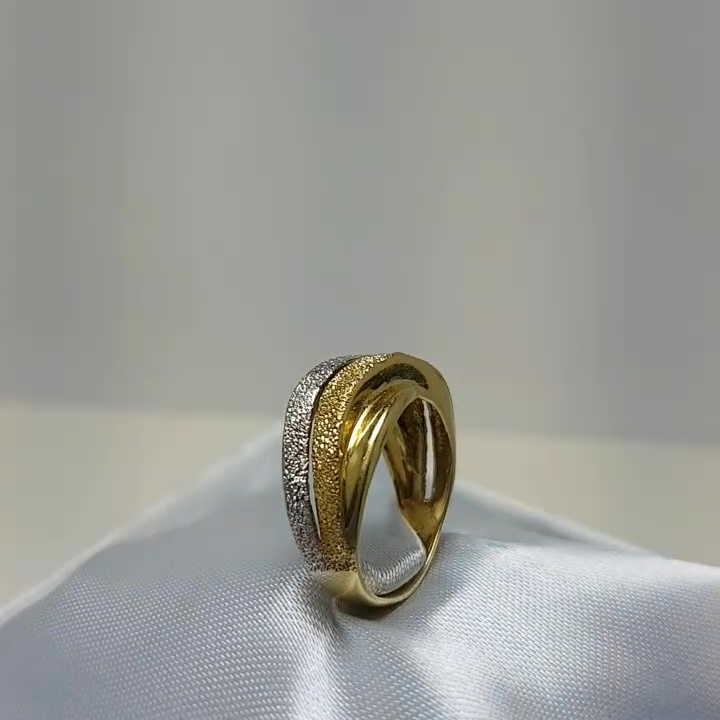Ring 5: (264, 325, 486, 614)
